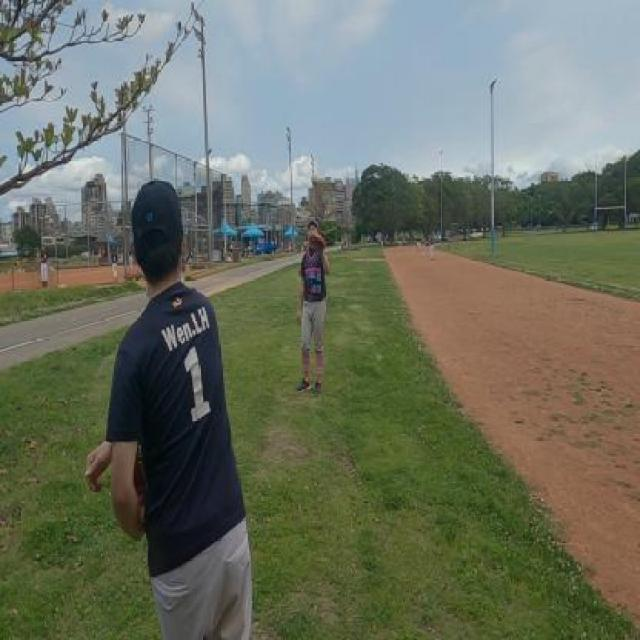baseball: (312, 174, 318, 186)
